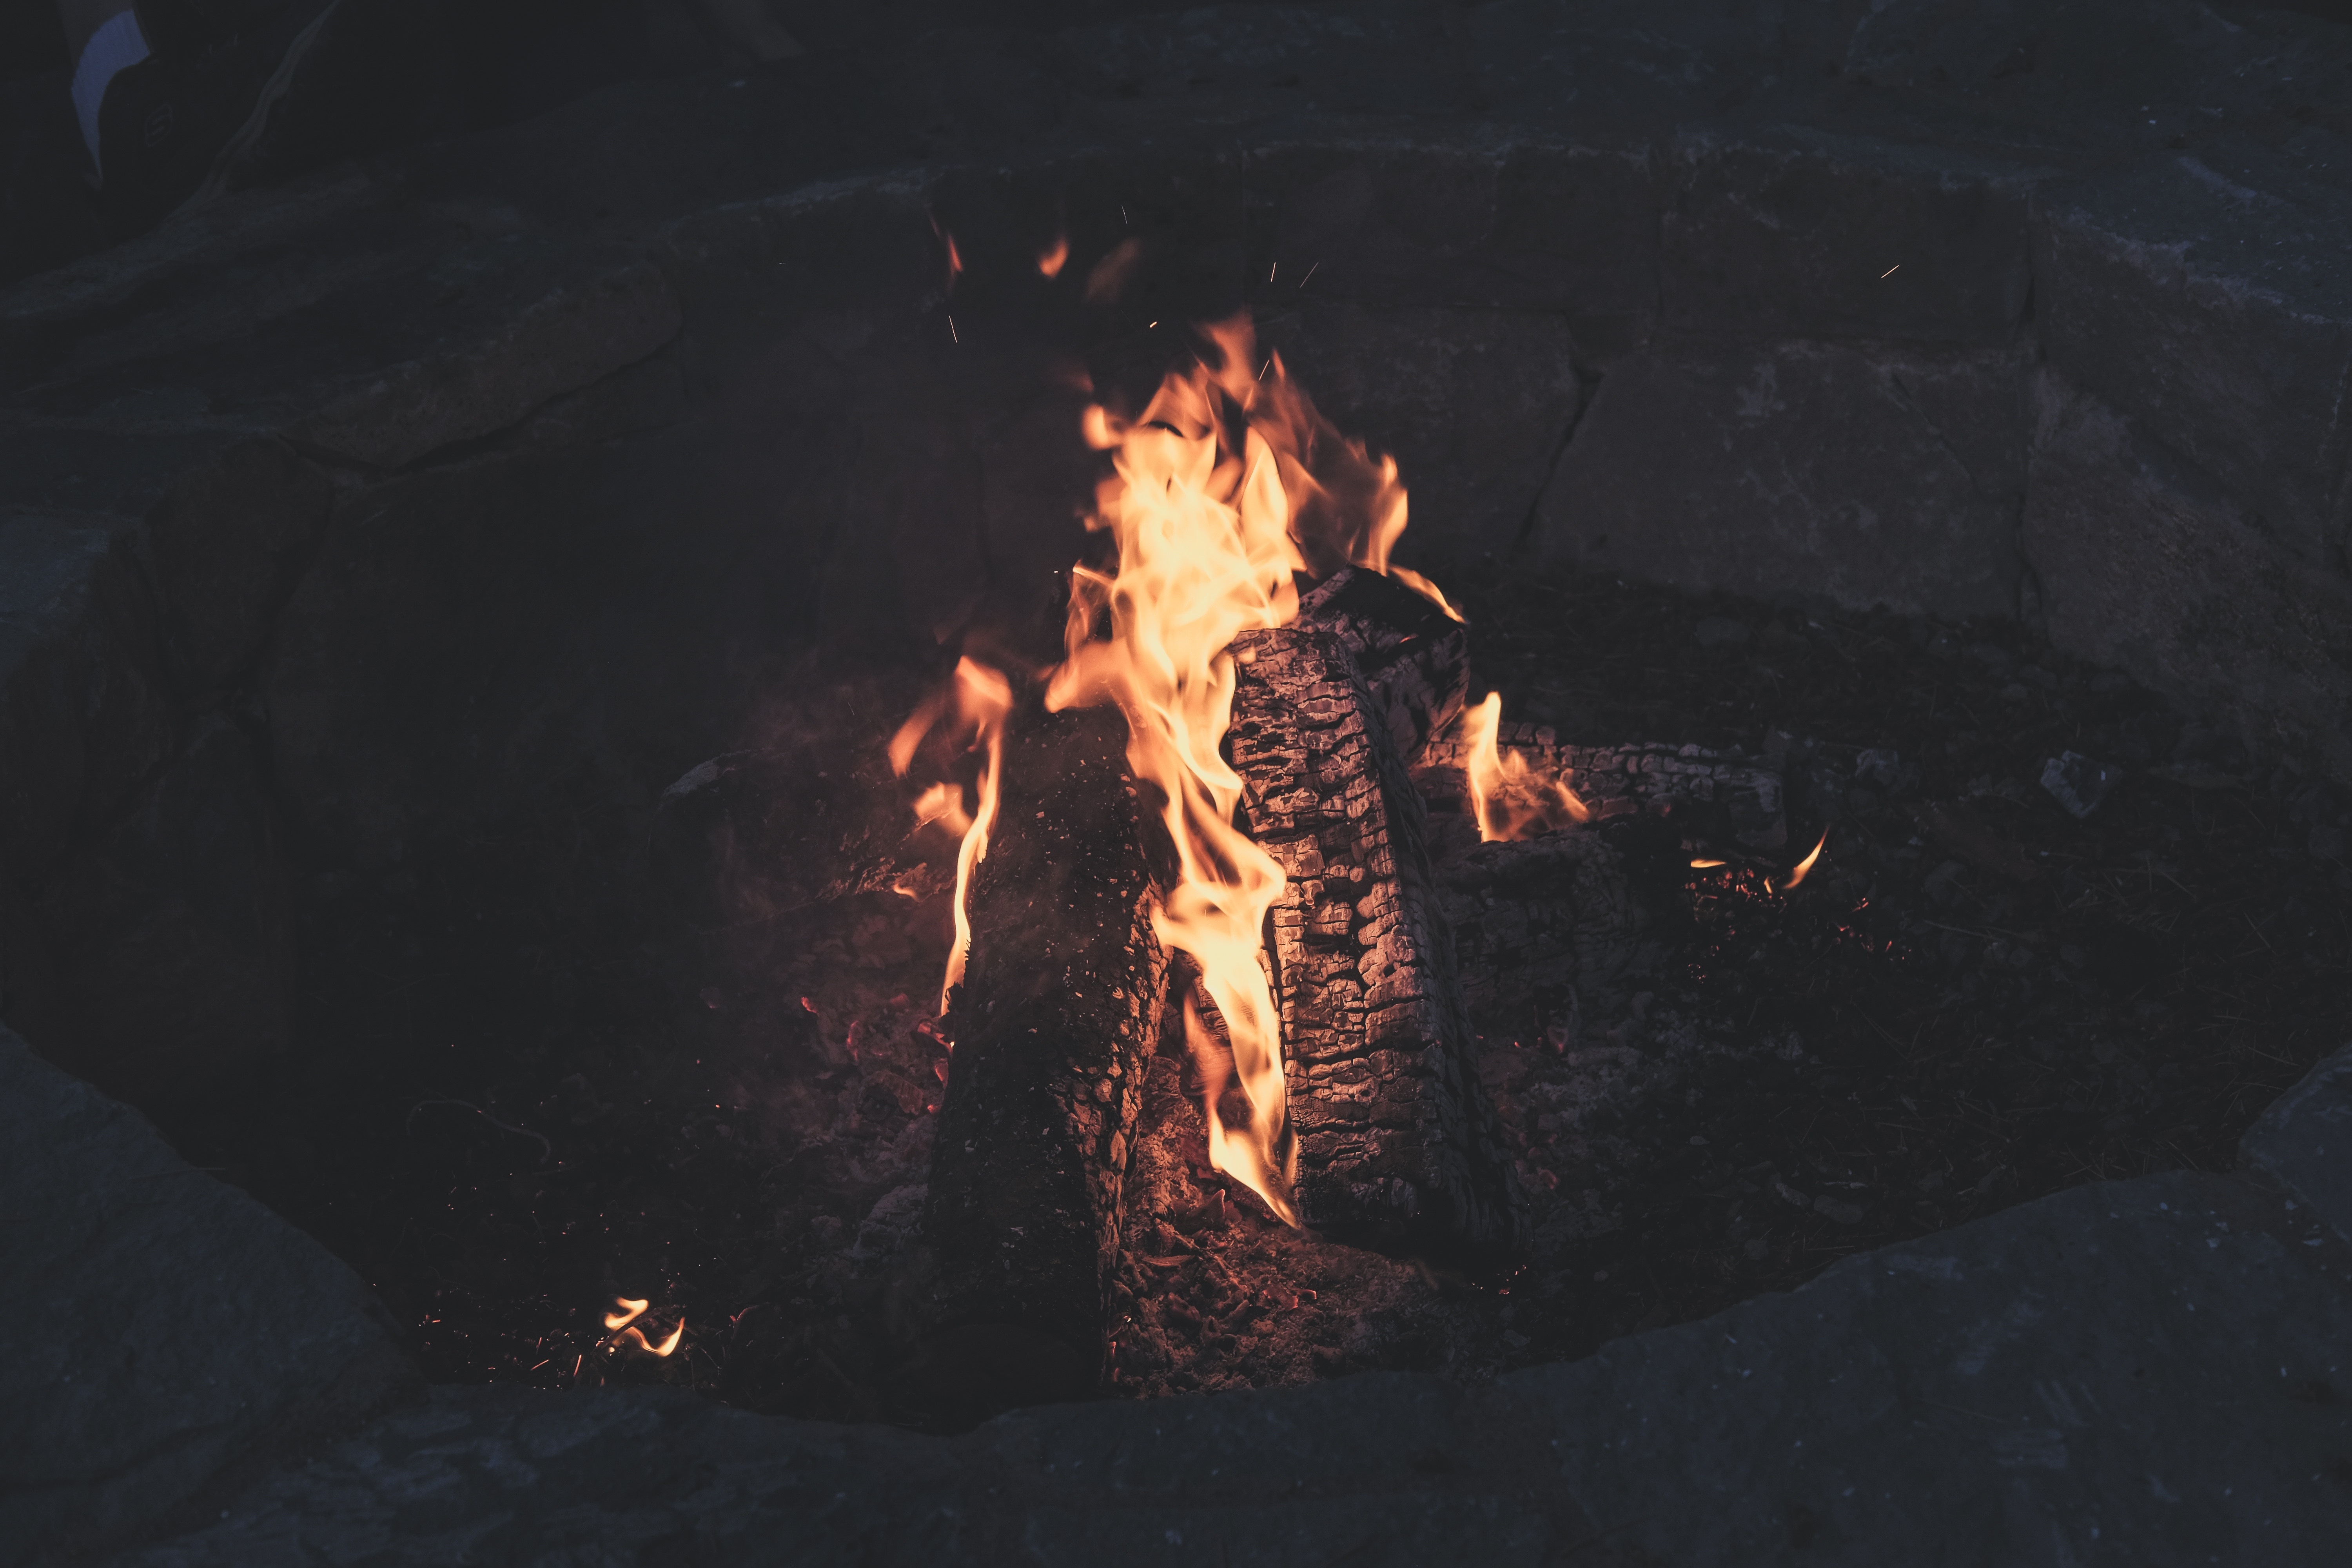fire: (887, 311, 1568, 1255)
